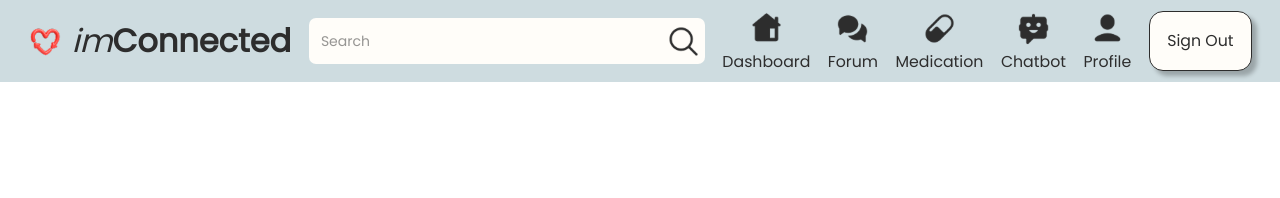
Test: Header Component › should hide search dropdown when input loses focus
Type "test" into the field with placeholder "Search" at (489, 41), box [312,22,666,60]
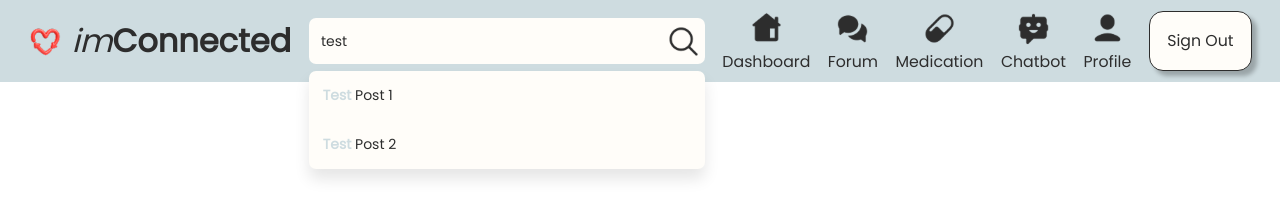
Result: the element with class "searchDropdown" is shown at [309,71,705,169]
Result: the number of elements with class "searchEntry" is 2 at [323,85,393,105]; [323,134,396,154]
Result: the element with class "searchEntry" reads "Test Post 1" at [323,85,393,105]
Note: Blur the input
Leave the field with placeholder "Search", box [312,22,666,60]
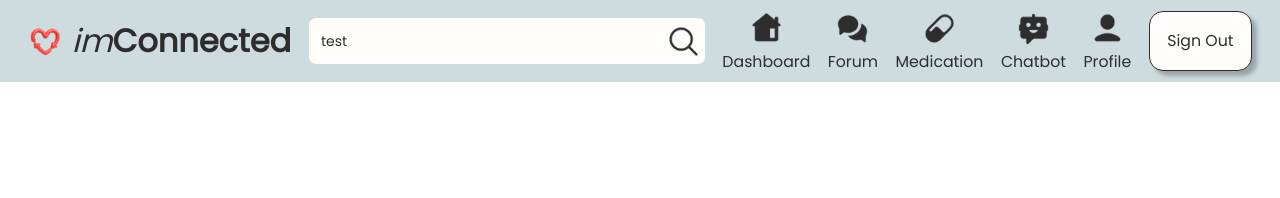
Result: the element with class "searchDropdown" is gone
